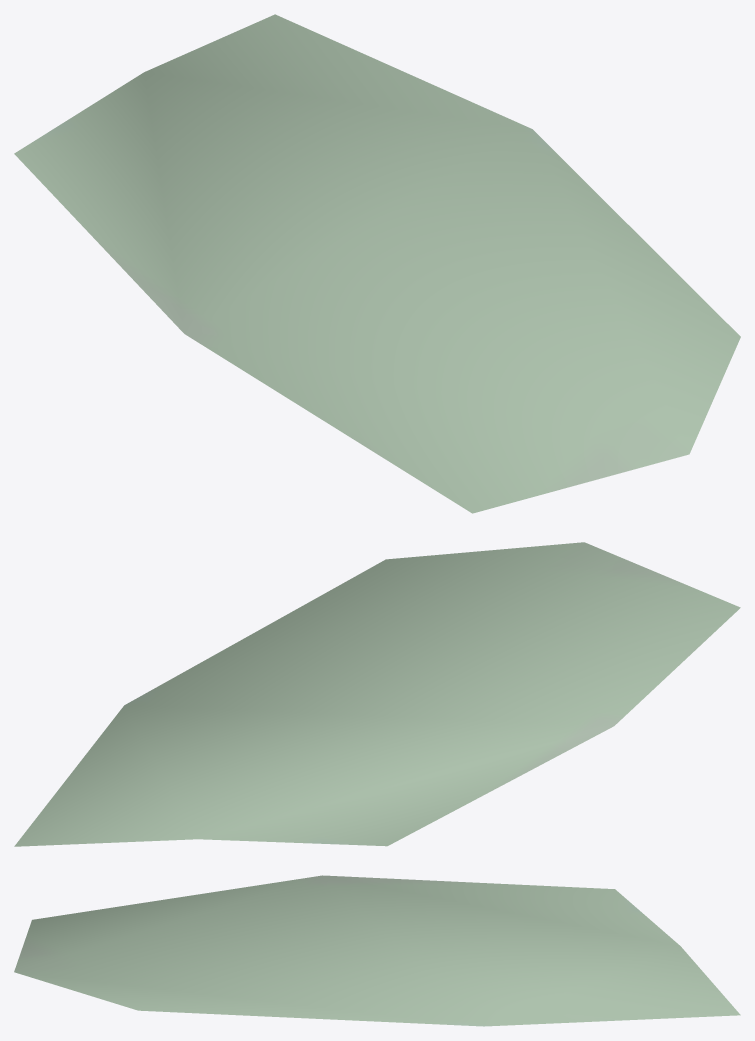
The model's file is TROLLHOLE02_HOLECAP75.fbx.
3 views of the same model, one above another, from view 1: azimuth 30°, elevation 25°; view 2: azimuth 150°, elevation 25°; view 3: azimuth 270°, elevation 25° (orthographic). The views are drawn at different scales.
Parts seen in each view (by area): view 1: TROLLHOLE02_HOLECAP75; view 2: TROLLHOLE02_HOLECAP75; view 3: TROLLHOLE02_HOLECAP75.
Part boxes in pixels (<box>): TROLLHOLE02_HOLECAP75: <box>14,14,740,513</box>; TROLLHOLE02_HOLECAP75: <box>14,542,740,846</box>; TROLLHOLE02_HOLECAP75: <box>14,875,740,1026</box>.
Bounding box in the file's own units: 12612 × 1030 × 25637.
Materials: 1 (1 with a texture image).
